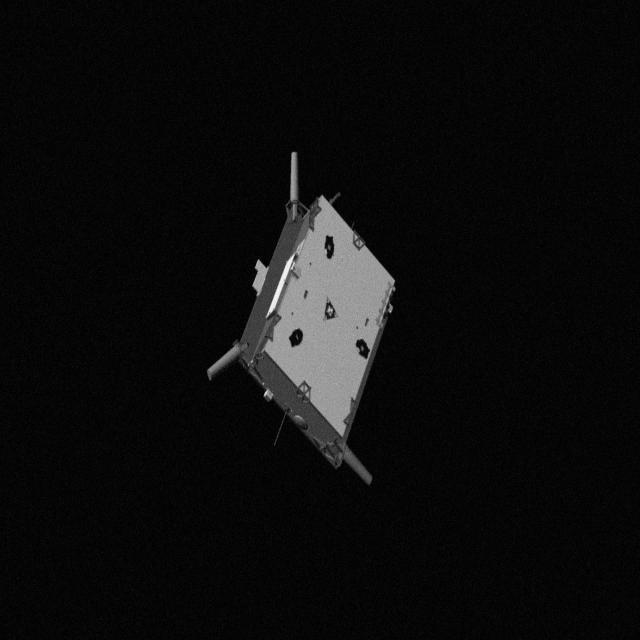satellite: (194, 144, 410, 478)
